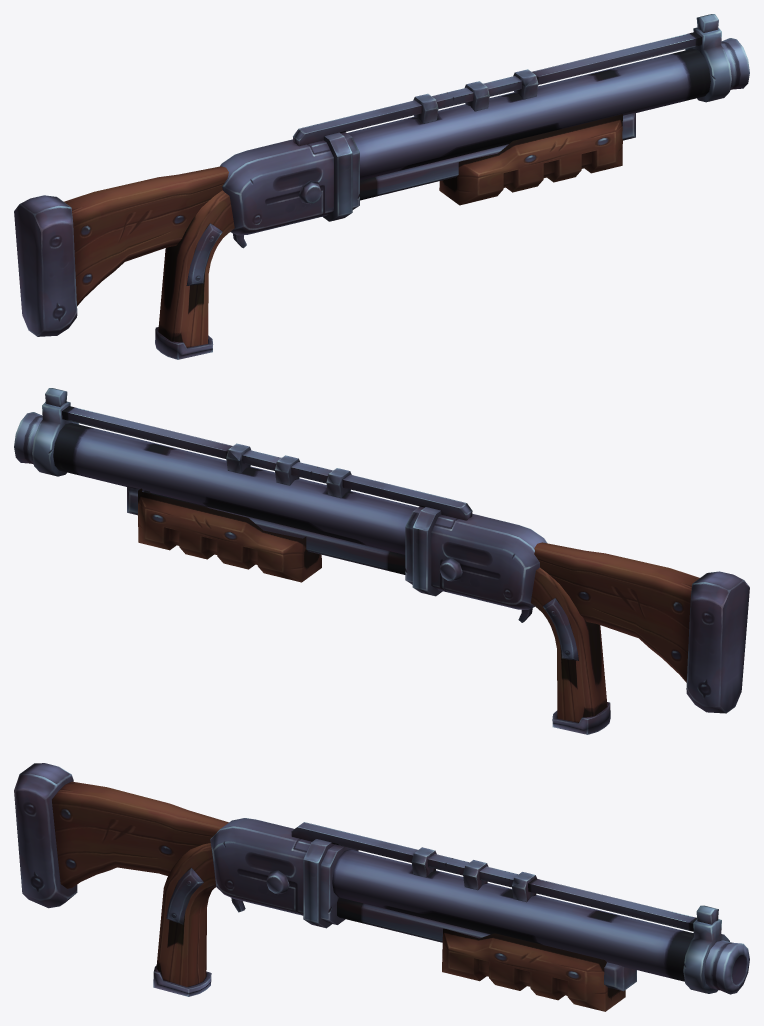
Rendered from Shot Gun.fbx.
The picture shows the model from 3 angles, top to bottom: view 1: azimuth 30°, elevation 25°; view 2: azimuth 150°, elevation 25°; view 3: azimuth 330°, elevation 25°; orthographic projection.
Visible parts, largest first — view 1: Gun; view 2: Gun; view 3: Gun.
Boxes of the visible parts, x1,y1,x2,y2 form: Gun: (14,14,749,359); Gun: (14,388,749,734); Gun: (14,763,749,1011).
Bounding box in the file's own units: 85.51 × 23.48 × 8.58.
